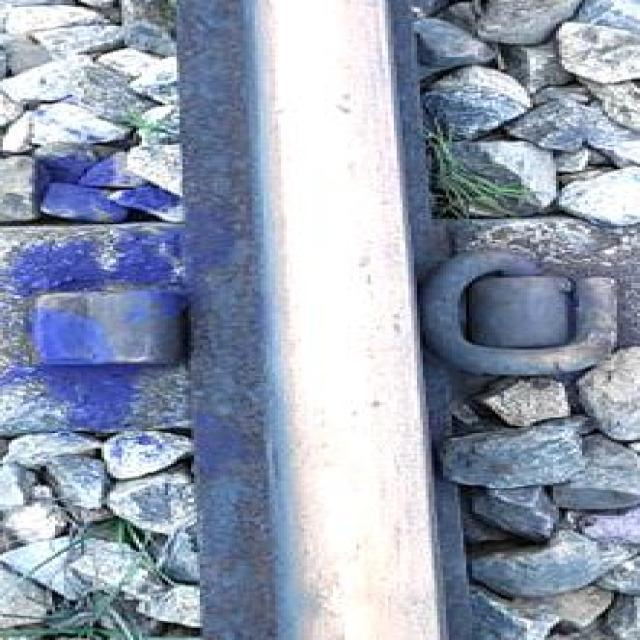Good Fasteners: (406, 215, 637, 394)
Missing Fastener: (0, 228, 235, 429)
